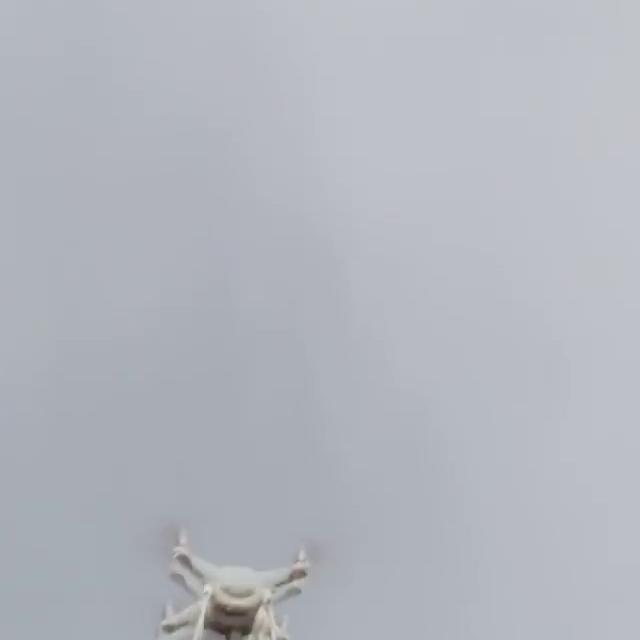drone: (135, 522, 330, 640)
